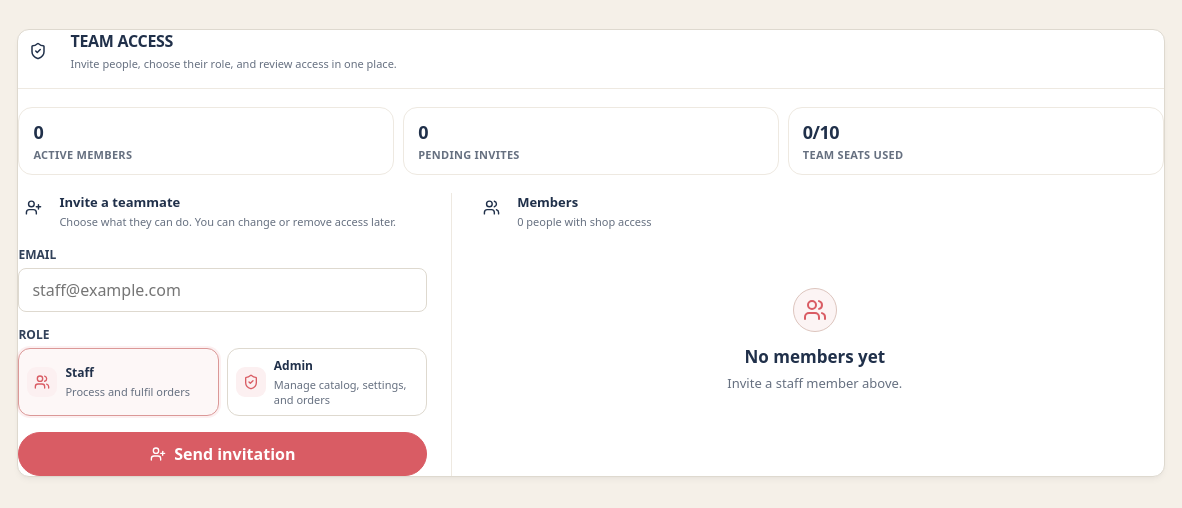
Test case: StaffManager › keeps invite validation in context and returns focus to email
The image size is (1182, 508).
Type "invalid" into the field labelled "Email".
click(223, 290); type("invalid")  # box left=18, top=268, right=427, bottom=312
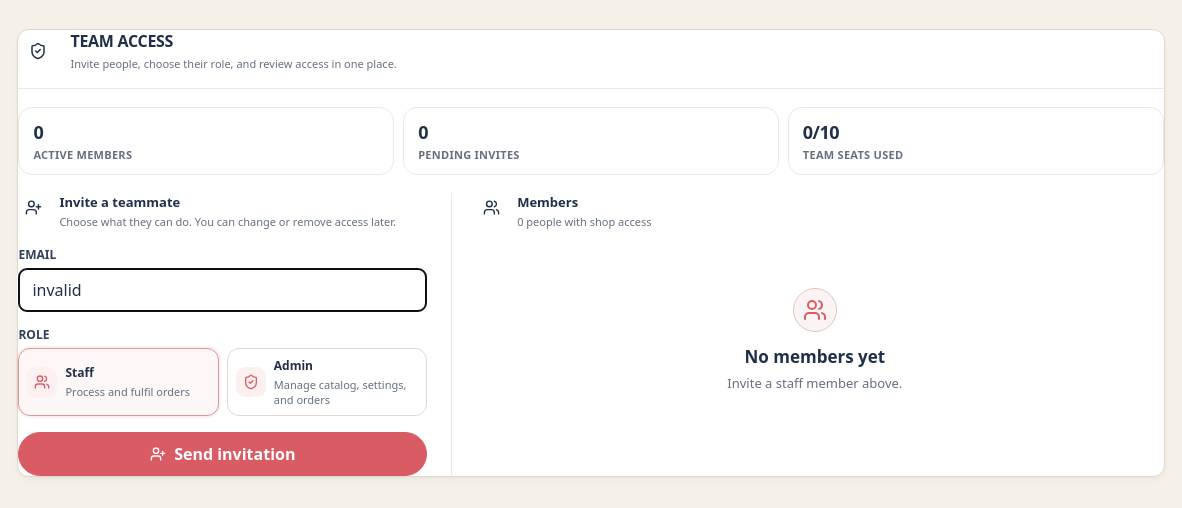
Click the button "Send invitation".
click(223, 454)  # box left=18, top=432, right=427, bottom=476
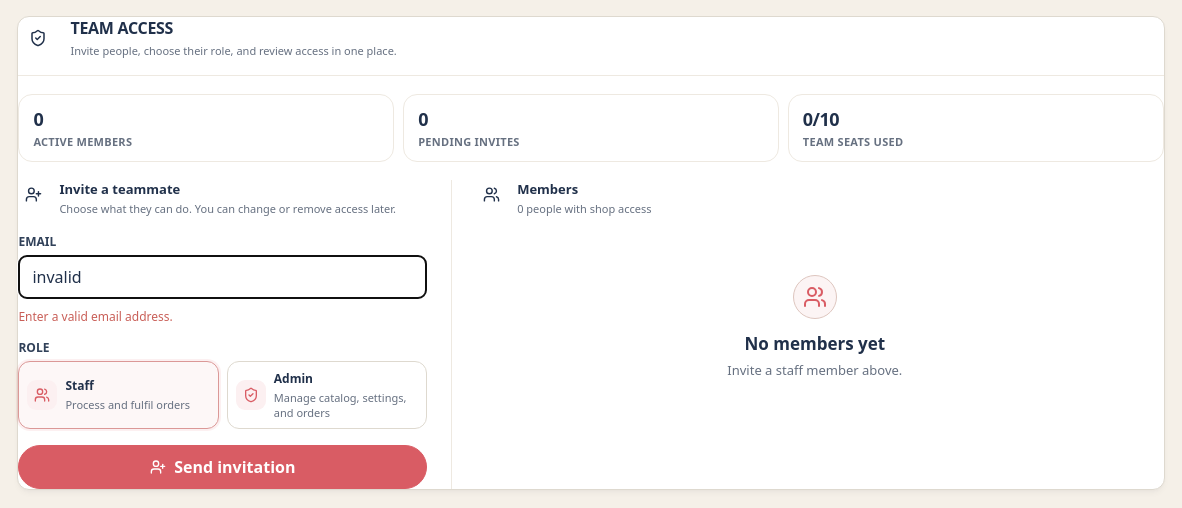
Type "@example.com" into the field labelled "Email".
click(223, 276); type("@example.com")  # box left=18, top=254, right=427, bottom=298
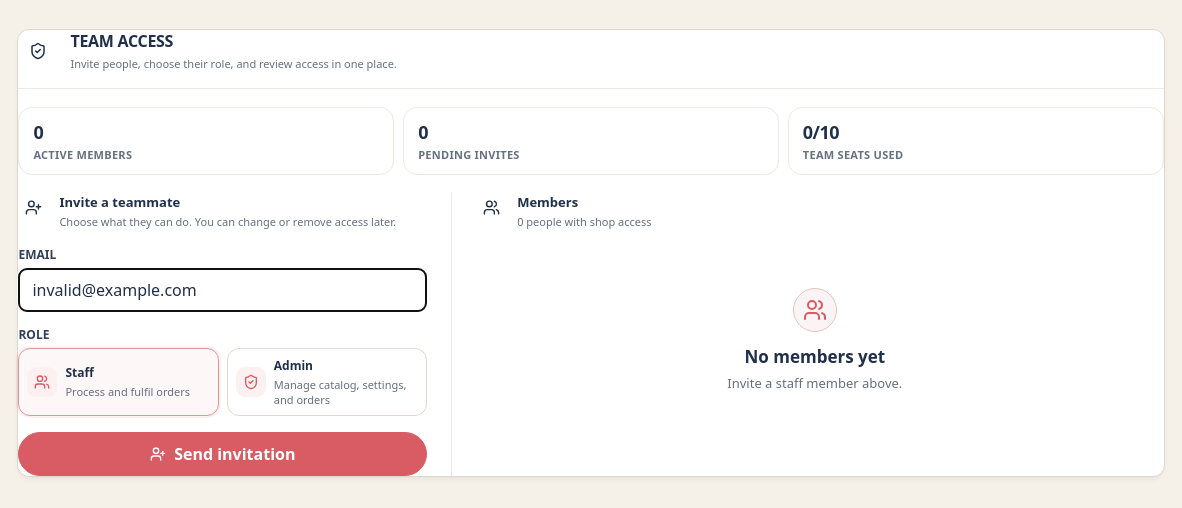
Result: the text "Enter a valid email address." is gone
